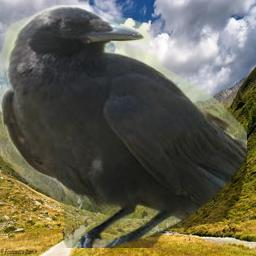Crow: (0, 5, 247, 248)
